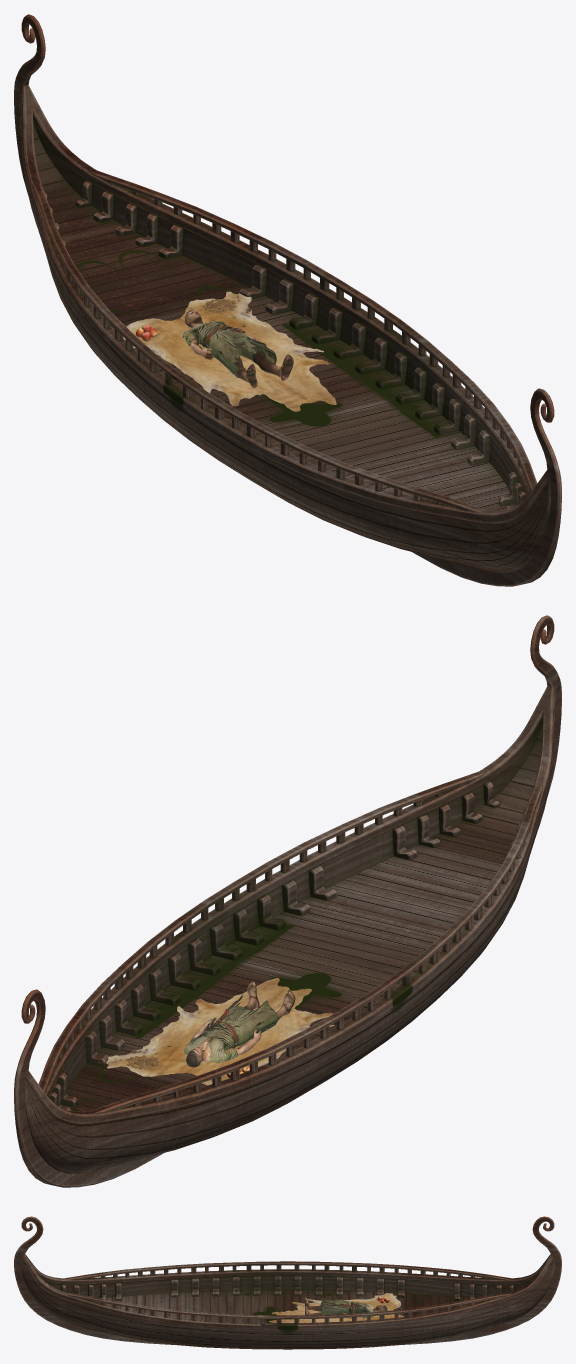
The model's file is death_boat.glb.
3 renders of one model, top to bottom at view 1: azimuth 30°, elevation 25°; view 2: azimuth 150°, elevation 25°; view 3: azimuth 270°, elevation 25°, orthographic. The views are drawn at different scales.
Parts seen in each view (by area): view 1: Object_2, peau de vache, Object_4; view 2: Object_2, peau de vache, Object_4; view 3: Object_2, peau de vache, Object_4.
Boxes of the visible parts, box(x1,y1,x2,y2) form: Object_2: box(14, 14, 561, 586); peau de vache: box(123, 291, 336, 411); Object_4: box(182, 310, 293, 388); Object_2: box(14, 615, 561, 1187); peau de vache: box(98, 978, 334, 1085); Object_4: box(184, 980, 295, 1067); Object_2: box(14, 1216, 561, 1349); peau de vache: box(269, 1293, 403, 1322); Object_4: box(304, 1297, 387, 1319).
Bounding box in the file's own units: 1.02 × 1.07 × 4.17.
Materials: 6 (6 with a texture image).
